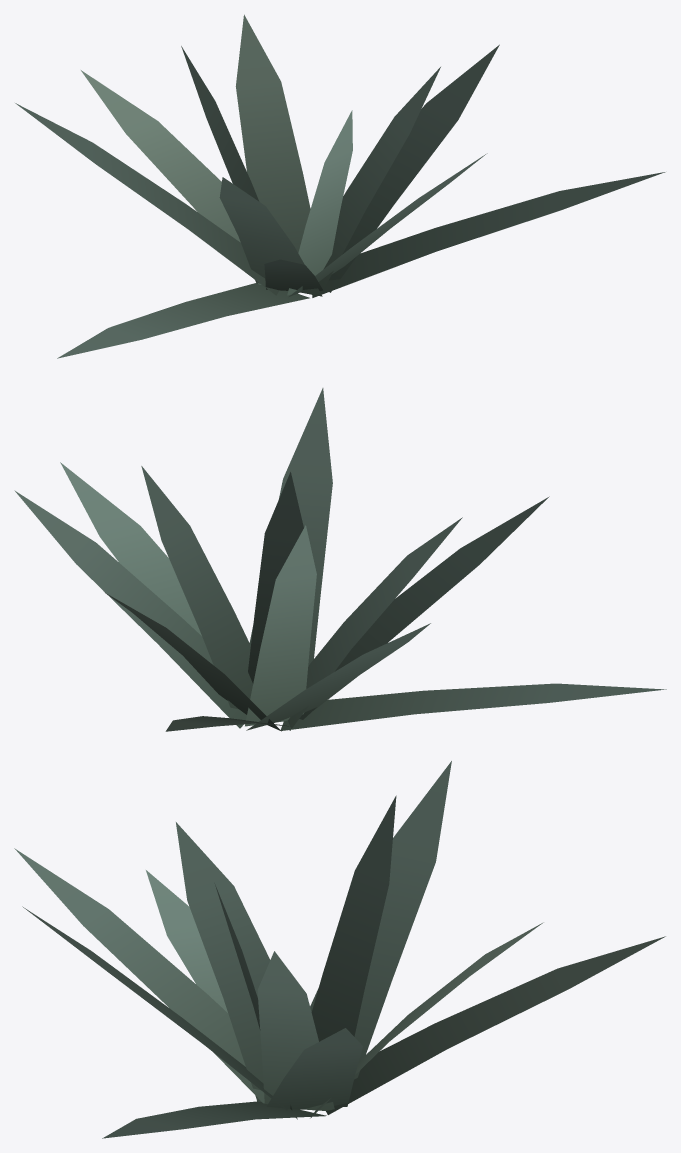
The model's file is succulent.agave.blue.glb.
3 views of the same model, one above another, from view 1: azimuth 30°, elevation 25°; view 2: azimuth 150°, elevation 25°; view 3: azimuth 270°, elevation 25° (orthographic). The views are drawn at different scales.
Visible parts, largest first — view 1: succulent_agave_blue; view 2: succulent_agave_blue; view 3: succulent_agave_blue.
Boxes of the visible parts, box(x1,y1,x2,y2) form: succulent_agave_blue: box(15, 14, 665, 358); succulent_agave_blue: box(14, 388, 666, 731); succulent_agave_blue: box(14, 761, 665, 1138).
Bounding box in the file's own units: 1.34 × 0.4936 × 1.1.
